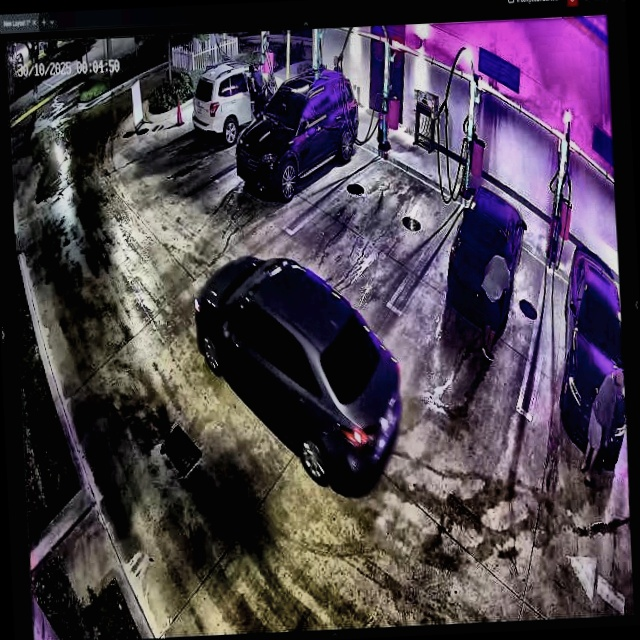Car: (191, 241, 405, 499), (231, 69, 363, 201), (443, 177, 529, 338)
